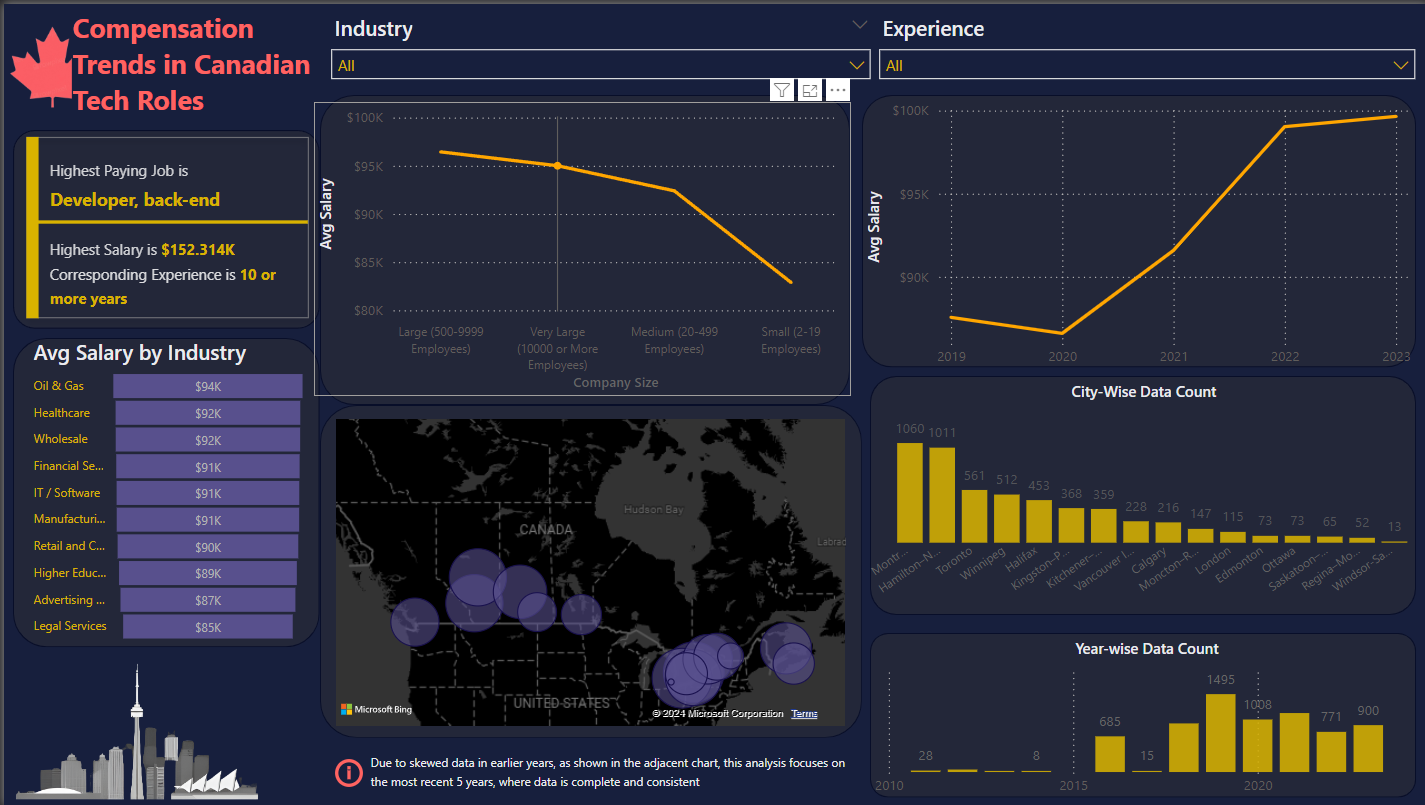

The dashboard page shown, as its layout file describes it:
{"tool":"powerbi","page":{"name":"Page 1","canvas":[1280,720],"ordinal":0},"visuals":[{"type":"shape","box":[284,81.8,476.4,278.7],"z":0},{"type":"shape","box":[771.3,81.6,498,244.9],"z":1000},{"type":"shape","box":[778.4,334.4,490.8,214.8],"z":2000},{"type":"shape","box":[778.4,565.5,490.9,147.9],"z":3000},{"type":"shape","box":[8.3,300.5,275.6,278],"z":4000},{"type":"shape","box":[8.3,113.6,275.6,178.6],"z":5000},{"type":"shape","box":[284,360.4,487.2,299.3],"z":6000},{"type":"slicer","fields":{"Values":["CanadaData.Industry"]},"box":[283.9,3.5,505.1,68.6],"z":7000},{"type":"cardVisual","fields":{"Data":["Min(CanadaData.Title)"]},"box":[8.3,102.9,283.9,197.6],"z":8000},{"type":"columnChart","title":"Year-wise Data Count","fields":{"Category":["CanadaData.Year"],"Y":["CountNonNull(CanadaData.Title)"]},"box":[774.9,565.5,505.1,155],"z":9000},{"type":"lineChart","title":"Avg Salary by CompanySize","fields":{"Y":["CanadaData.Avg Salary"],"Category":["CanadaData.CompanySizeGroup"]},"box":[278.7,88.1,482.7,264.3],"z":10000},{"type":"map","fields":{"Y":["Custom Coordinates.Lat"],"X":["Custom Coordinates.Long"],"Size":["CanadaData.Avg Salary"]},"box":[293,367.6,468.3,285.8],"z":11000},{"type":"funnel","fields":{"Y":["CanadaData.Avg Salary"],"Category":["CanadaData.Industry"]},"box":[21.5,300.7,256.8,277.5],"z":12000},{"type":"columnChart","title":"City-Wise Data Count","fields":{"Y":["CountNonNull(CanadaData.Title)"],"Category":["CanadaData.City"]},"box":[771.2,334.4,507,205.8],"z":13000},{"type":"image","box":[0,586.8,239.6,133.1],"z":14000},{"type":"textbox","box":[56.8,0,235.4,113.6],"z":15000},{"type":"image","box":[0,0,65.5,113.7],"z":16000},{"type":"lineChart","title":"Avg Salary by Year","fields":{"Y":["CanadaData.Avg Salary"],"Category":["CanadaData.Year"]},"box":[771.3,81.6,498,253.2],"z":17000},{"type":"slicer","fields":{"Values":["CanadaData.Experience"]},"box":[776.6,3.5,501.6,67.4],"z":18000},{"type":"textbox","box":[324.5,667,452.1,47.6],"z":18001},{"type":"actionButton","box":[293,674.2,38.7,34.2],"z":18002}]}

Visuals, with their boxes in screenshot pixels (x1, y1, x2, y2), scaled from the page's 1280x720 canvas onto the 1425x805 screenshot:
shape: crop(316, 91, 847, 403)
shape: crop(859, 91, 1413, 365)
shape: crop(867, 374, 1413, 614)
shape: crop(867, 632, 1413, 798)
shape: crop(9, 336, 316, 647)
shape: crop(9, 127, 316, 327)
shape: crop(316, 403, 859, 738)
slicer - CanadaData.Industry: crop(316, 4, 878, 81)
cardVisual - Min(CanadaData.Title): crop(9, 115, 325, 336)
"Year-wise Data Count" columnChart: crop(863, 632, 1424, 804)
"Avg Salary by CompanySize" lineChart: crop(310, 99, 848, 394)
map - Custom Coordinates.Lat x Custom Coordinates.Long: crop(326, 411, 848, 731)
funnel - CanadaData.Avg Salary x CanadaData.Industry: crop(24, 336, 310, 646)
"City-Wise Data Count" columnChart: crop(859, 374, 1423, 604)
image: crop(0, 656, 267, 804)
textbox: crop(63, 0, 325, 127)
image: crop(0, 0, 73, 127)
"Avg Salary by Year" lineChart: crop(859, 91, 1413, 374)
slicer - CanadaData.Experience: crop(865, 4, 1423, 79)
textbox: crop(361, 746, 865, 799)
actionButton: crop(326, 754, 369, 792)
